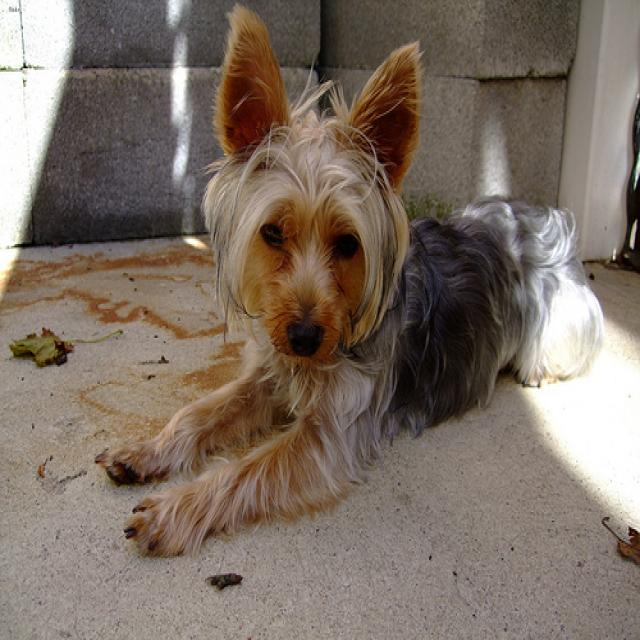dog-yorkshire_terrier: (88, 2, 613, 570)
